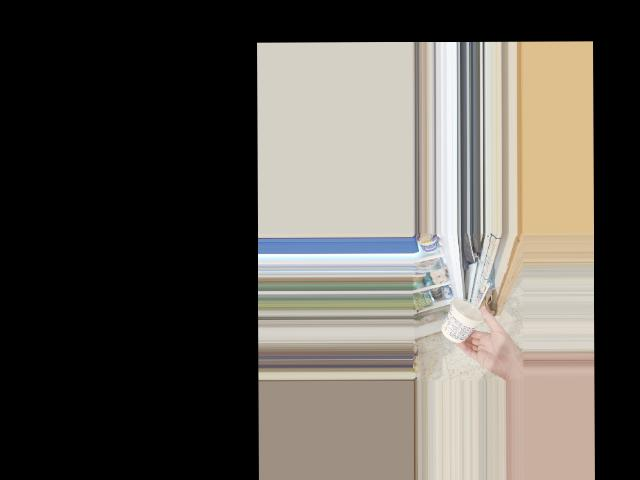cotage: (444, 296, 482, 344)
